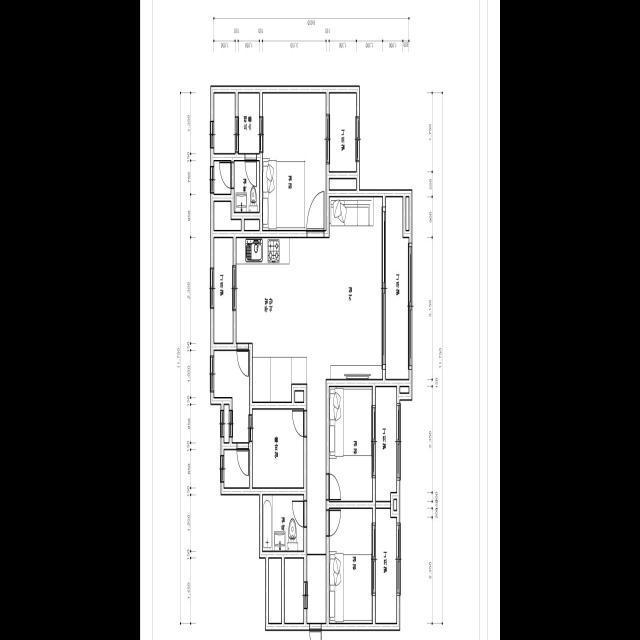background: (140, 0, 500, 640)
space_balconi: (386, 197, 409, 378), (214, 350, 249, 442), (376, 508, 397, 622), (376, 387, 397, 500), (329, 93, 356, 171), (214, 237, 233, 342), (224, 449, 249, 487), (224, 404, 229, 442)
space_bedroom: (263, 93, 326, 229), (329, 508, 372, 622), (329, 386, 372, 500)
space_dressroom: (214, 93, 235, 153), (238, 93, 259, 153), (285, 558, 304, 622)
space_front: (307, 553, 326, 622)
space_kitchen: (236, 238, 307, 401)
space_living_room: (307, 197, 382, 553)
space_other: (253, 409, 304, 487), (269, 558, 281, 622), (214, 201, 241, 229), (329, 179, 356, 189), (244, 219, 259, 229), (406, 197, 409, 229), (295, 391, 304, 401), (400, 387, 409, 392), (394, 499, 396, 509)
space_toilet: (263, 495, 304, 550), (234, 161, 259, 211), (214, 161, 231, 193)
